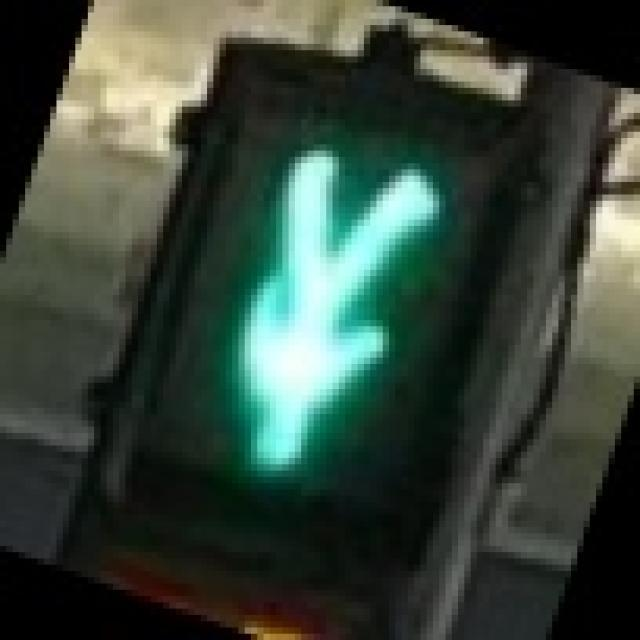geen-crossing: (88, 57, 527, 564)
